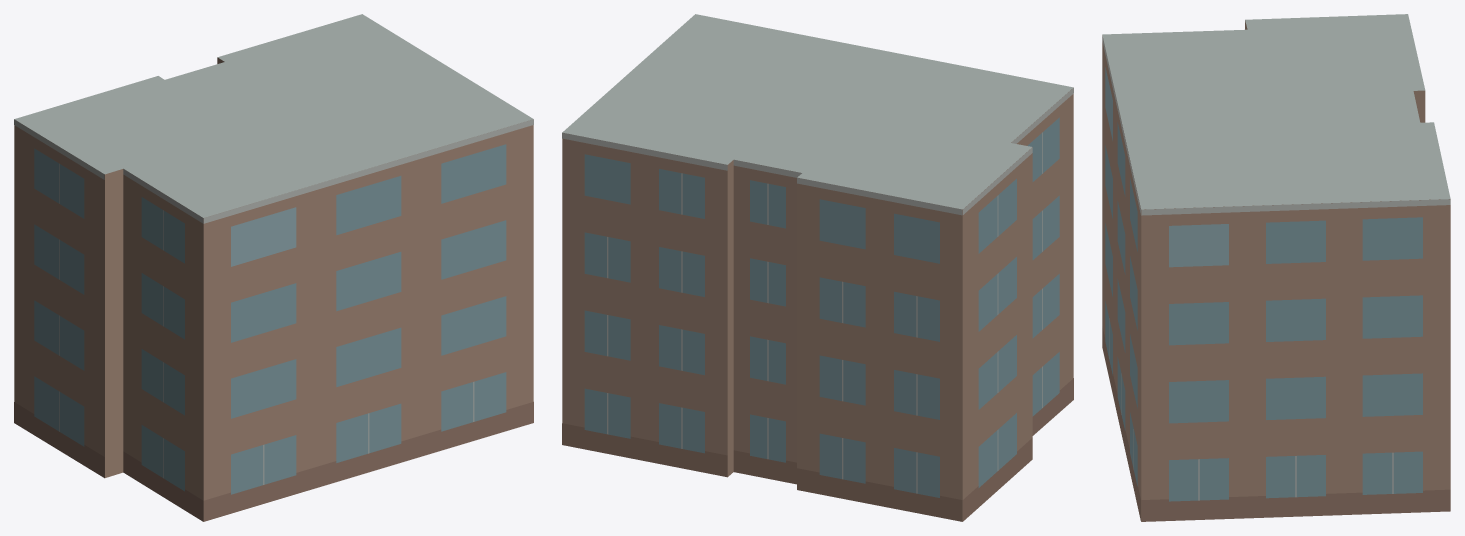
The model's file is survey-upis-33000922.glb.
3 views of the same model, side by side, from view 1: azimuth 30°, elevation 25°; view 2: azimuth 150°, elevation 25°; view 3: azimuth 270°, elevation 25° (orthographic). The views are drawn at different scales.
Visible parts, largest first — view 1: survey-upis-33000922.tmp; view 2: survey-upis-33000922.tmp; view 3: survey-upis-33000922.tmp.
Part boxes in pixels (x1,y1,x2,y2): survey-upis-33000922.tmp: (14,14,533,521); survey-upis-33000922.tmp: (562,14,1073,521); survey-upis-33000922.tmp: (1102,14,1450,521).
Size of the model in its own units: 17.2 by 12.8 by 12.95.
